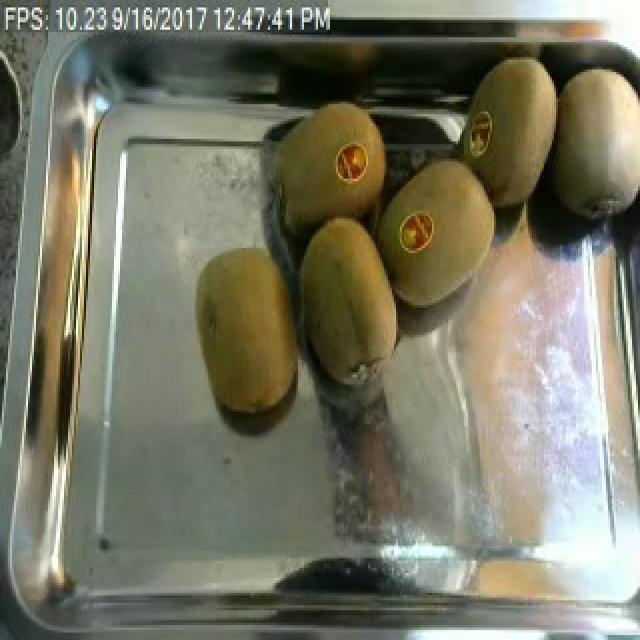Fruit: (282, 206, 416, 399), (186, 236, 314, 427), (382, 144, 514, 325), (538, 47, 640, 271), (448, 42, 558, 221)
